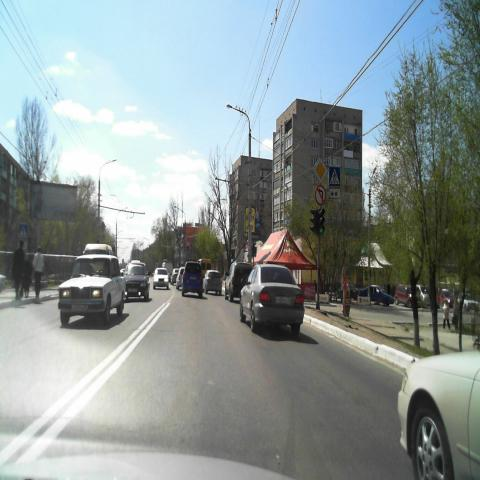3_18_2: (315, 184, 327, 205)
5_19_1: (19, 223, 28, 241)
